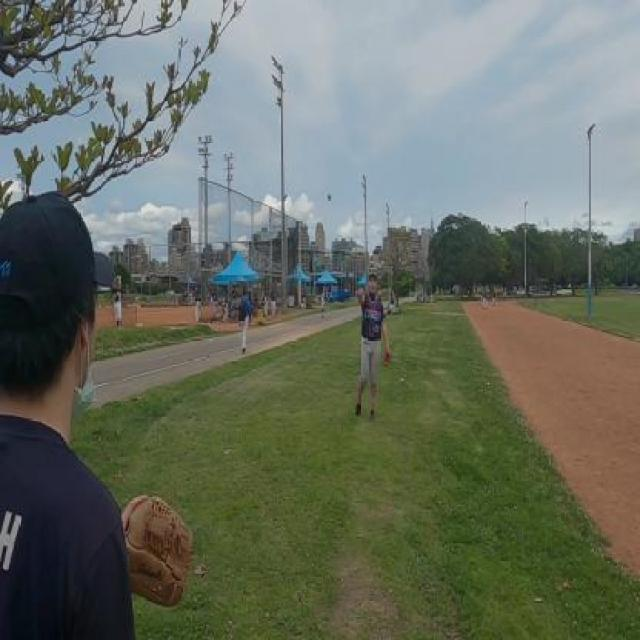baseball: (327, 192, 331, 200)
